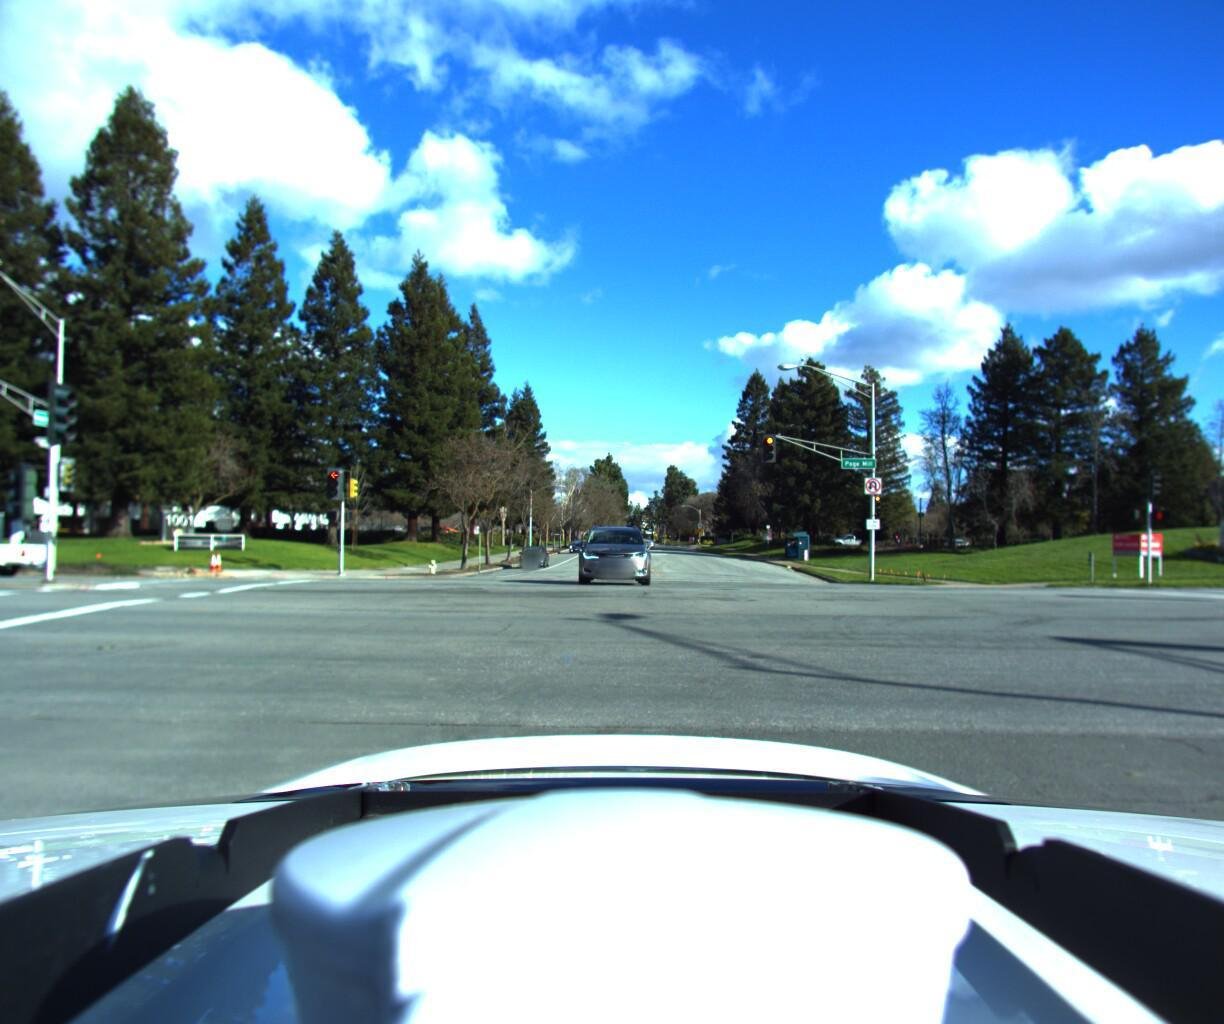car: (568, 514, 651, 588), (0, 523, 39, 576), (513, 541, 548, 566)
